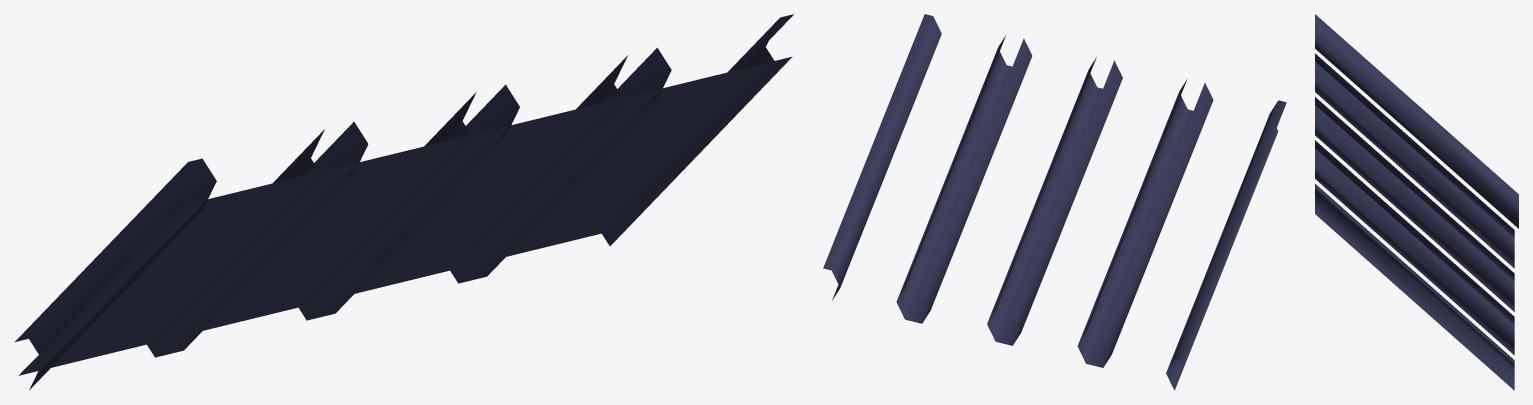
Rendered from Building_CorridorBack_2.fbx.
3 renders of one model, left to right at view 1: azimuth 30°, elevation 25°; view 2: azimuth 150°, elevation 25°; view 3: azimuth 270°, elevation 25°, orthographic. The views are drawn at different scales.
Parts seen in each view (by area): view 1: Plane.240, Circle.181, Circle.183, Circle.182, Circle.184, Circle.185; view 2: Circle.182, Circle.183, Circle.181, Circle.185, Circle.184; view 3: Circle.182, Circle.181, Circle.183, Circle.184, Circle.185.
Boxes of the visible parts, left/top/right/bottom form: Plane.240: left=18, top=56, right=792, bottom=375; Circle.181: left=298, top=84, right=519, bottom=320; Circle.183: left=147, top=122, right=368, bottom=357; Circle.182: left=450, top=47, right=671, bottom=283; Circle.184: left=15, top=158, right=216, bottom=390; Circle.185: left=602, top=14, right=793, bottom=245; Circle.182: left=896, top=35, right=1032, bottom=323; Circle.183: left=1077, top=79, right=1213, bottom=367; Circle.181: left=987, top=57, right=1122, bottom=345; Circle.185: left=823, top=14, right=941, bottom=300; Circle.184: left=1166, top=100, right=1286, bottom=390; Circle.182: left=1315, top=140, right=1514, bottom=355; Circle.181: left=1315, top=97, right=1514, bottom=311; Circle.183: left=1315, top=53, right=1514, bottom=268; Circle.184: left=1315, top=14, right=1518, bottom=228; Circle.185: left=1315, top=184, right=1514, bottom=390.
Size of the model in its own units: 200 by 113 by 99.19.
